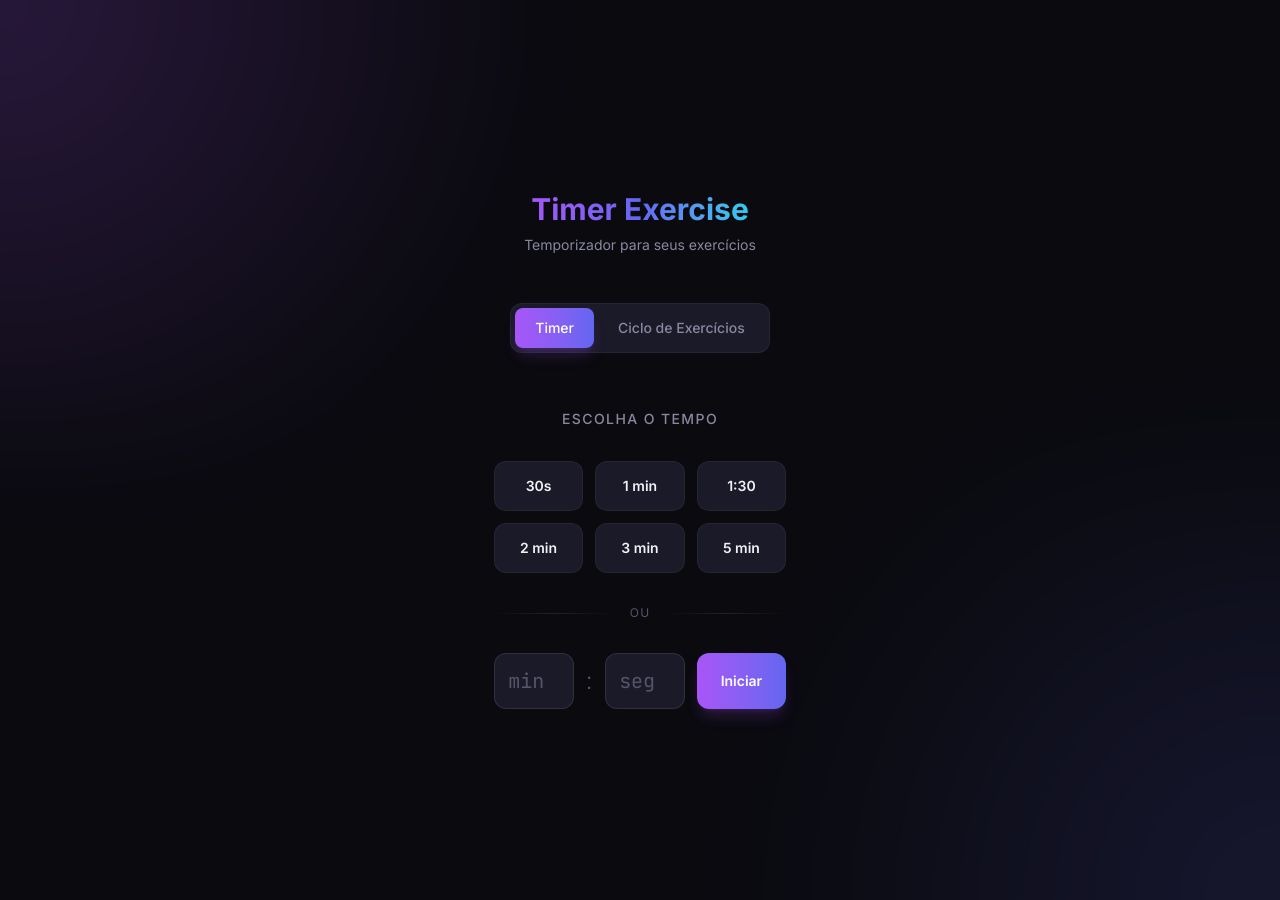
Test: App (integração) › custom input inicia o timer corretamente
The width and height of the screenshot is (1280, 900).
Type "1" into the number field with placeholder "min" at (534, 681), box [494,653,574,709]
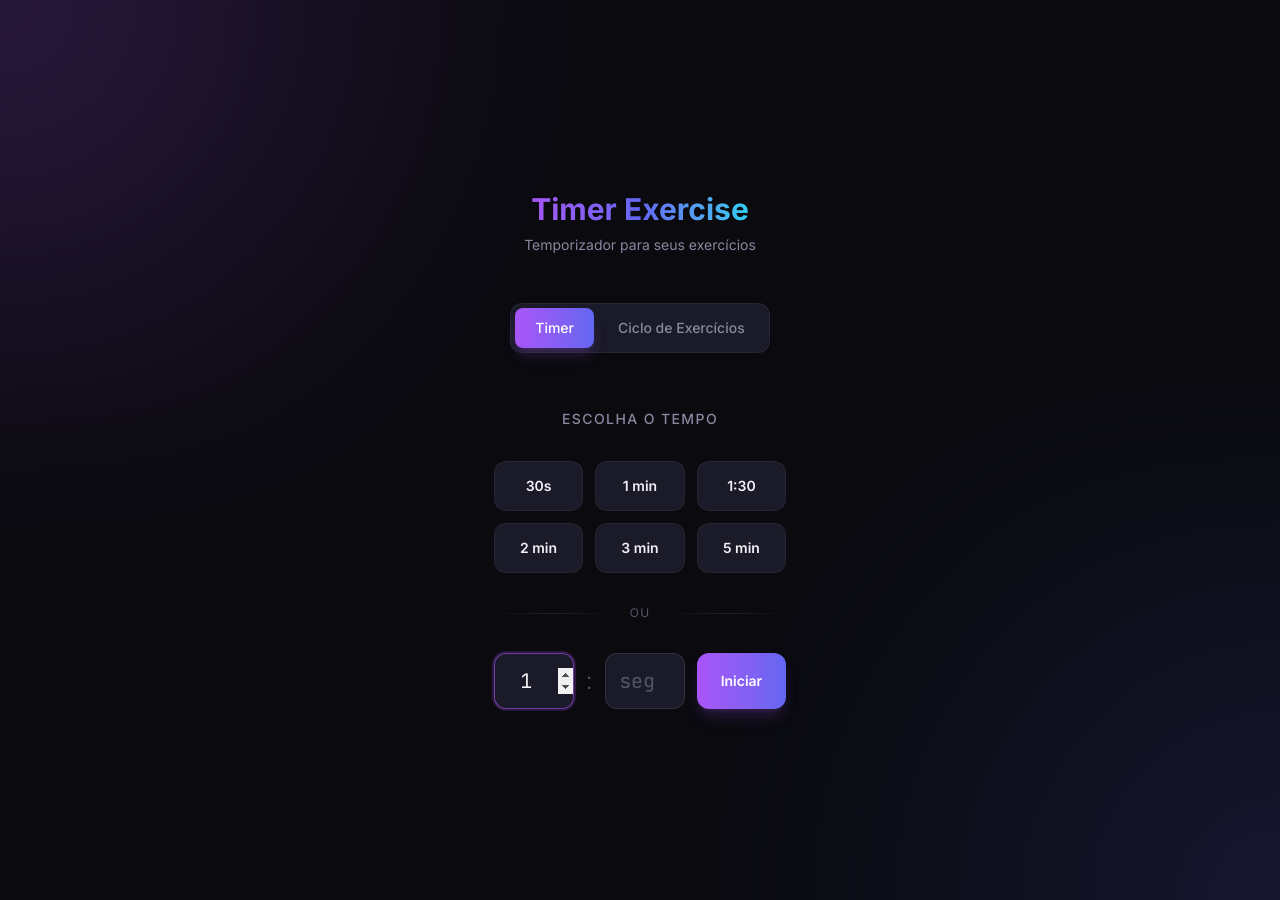
Type "30" into the number field with placeholder "seg" at (645, 681), box [605,653,685,709]
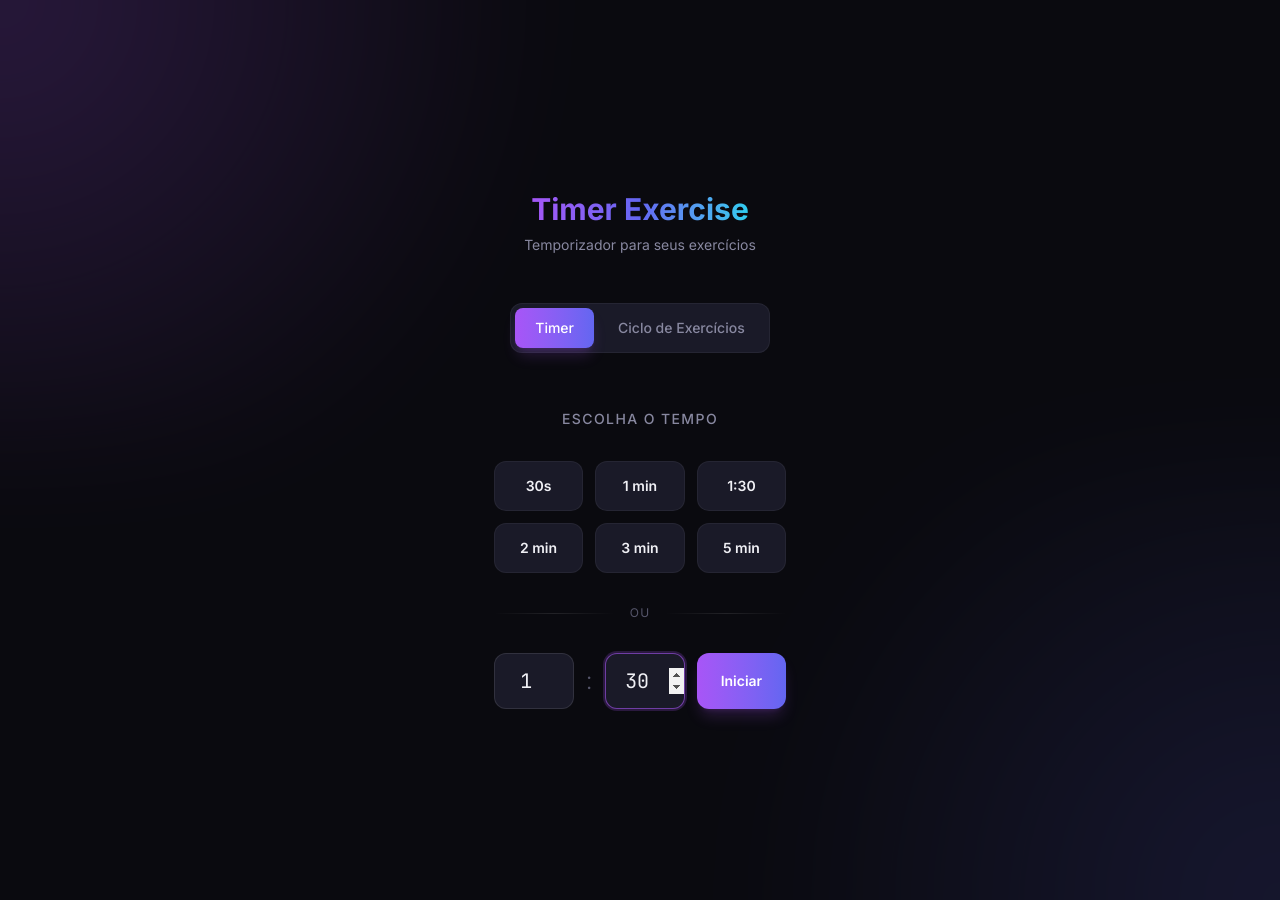
Click the button "Iniciar" at (741, 681), box [697,653,786,709]
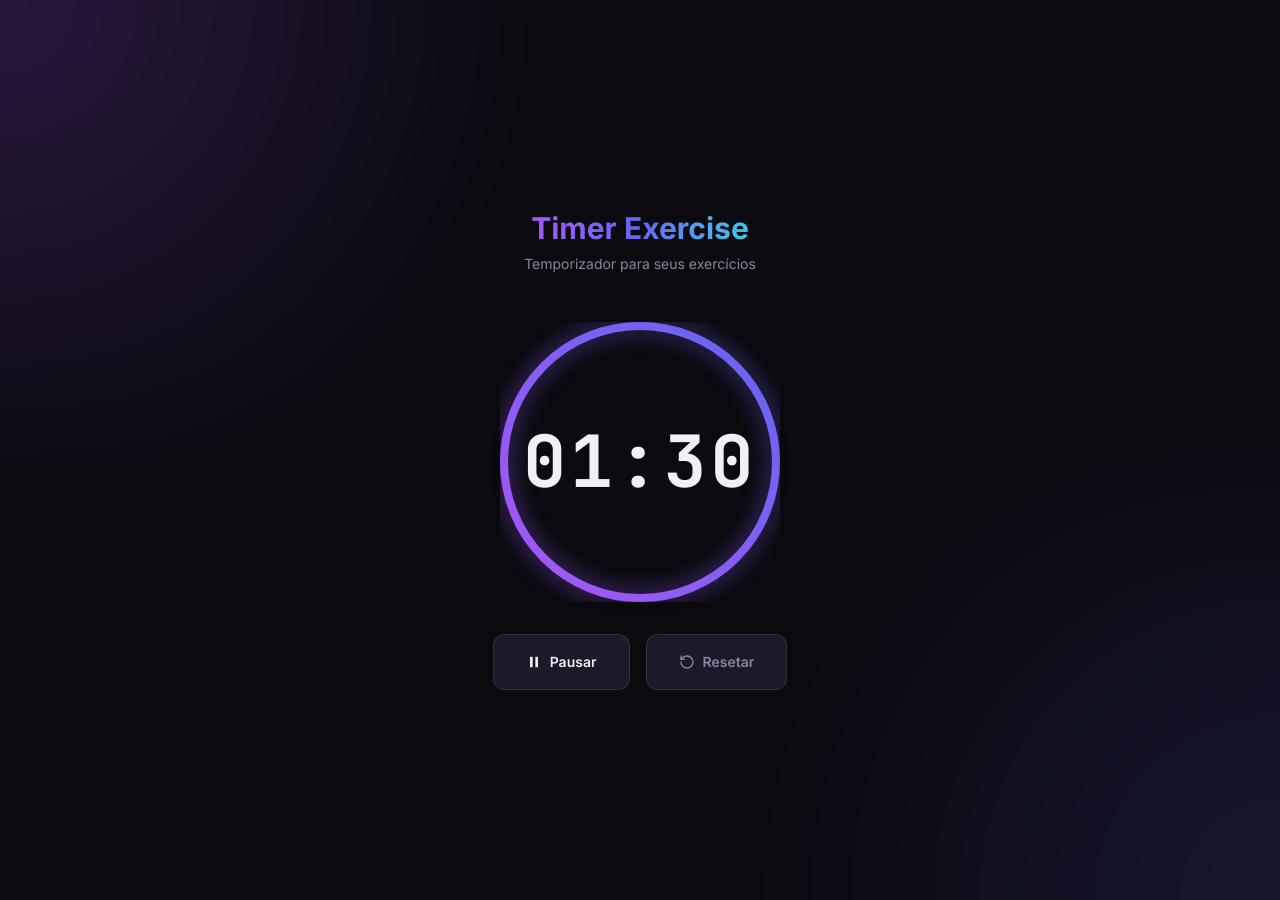
Expected: the text "Pausar" is shown, [526,652,596,672]
Expected: the text "Escolha o tempo" is gone
